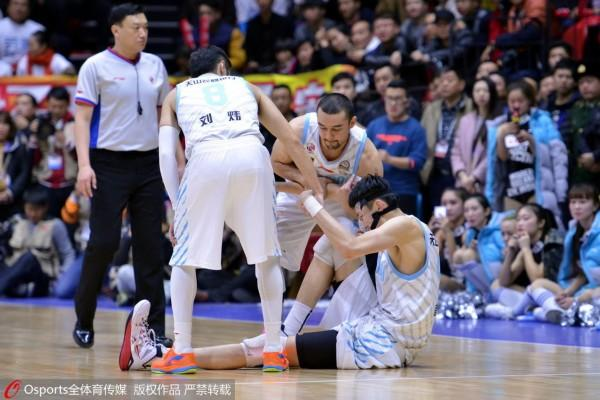bending: (117, 171, 447, 374), (155, 40, 323, 374), (262, 90, 382, 284)
up: (69, 1, 179, 355)
